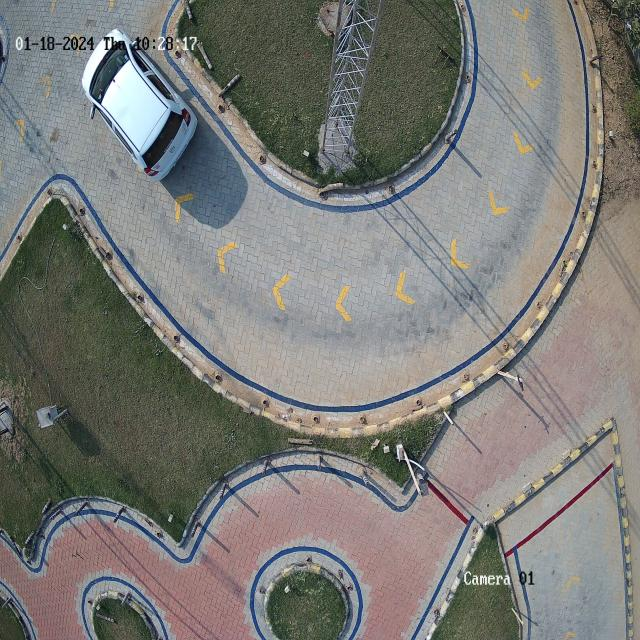car: (81, 28, 196, 180)
